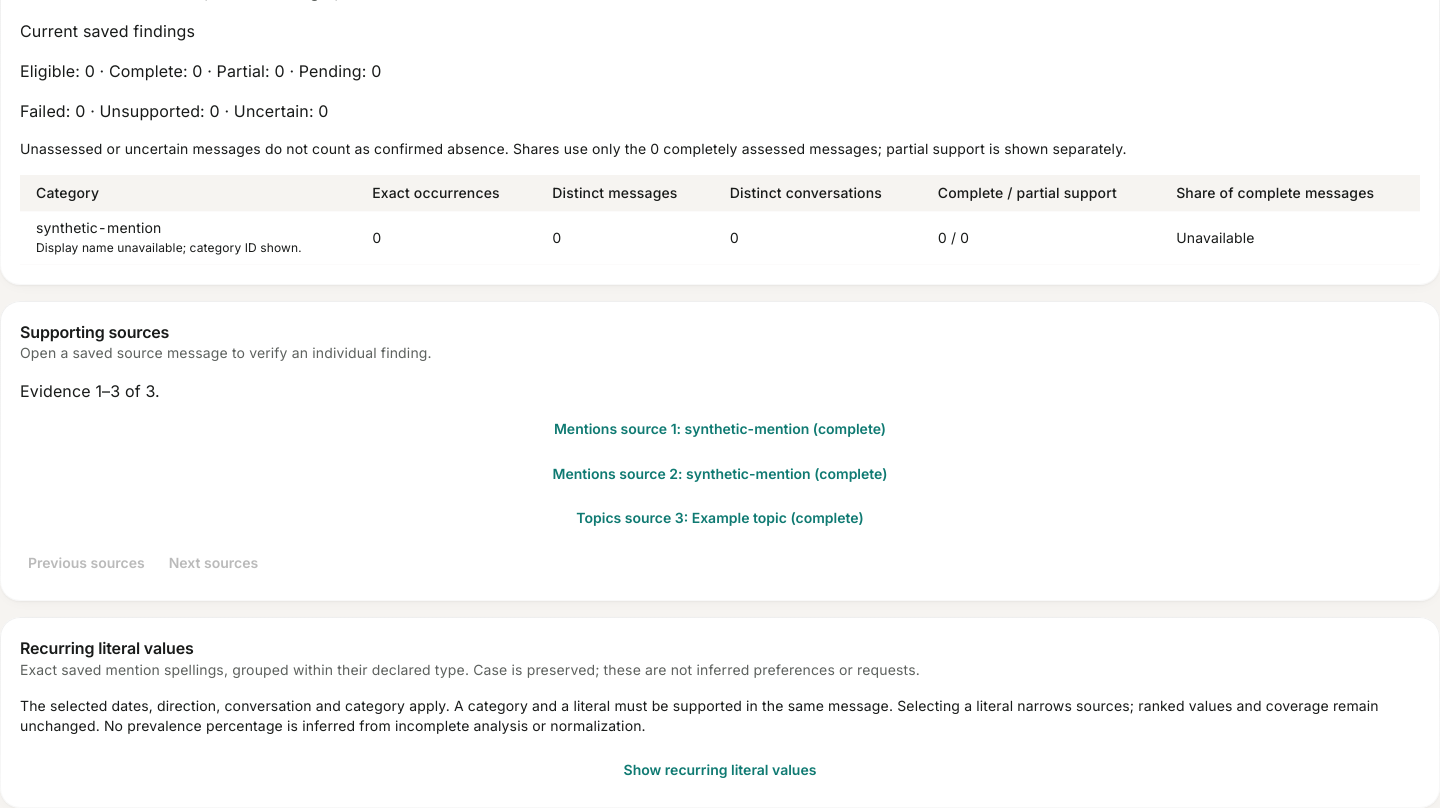
TaskFindings › opens only the selected repeated Unicode mention occurrence
(page scrolled)
Step 1. Click the button "Mentions source 2: synthetic-mention (complete)" → (720, 474), box [20,456,1420,492]
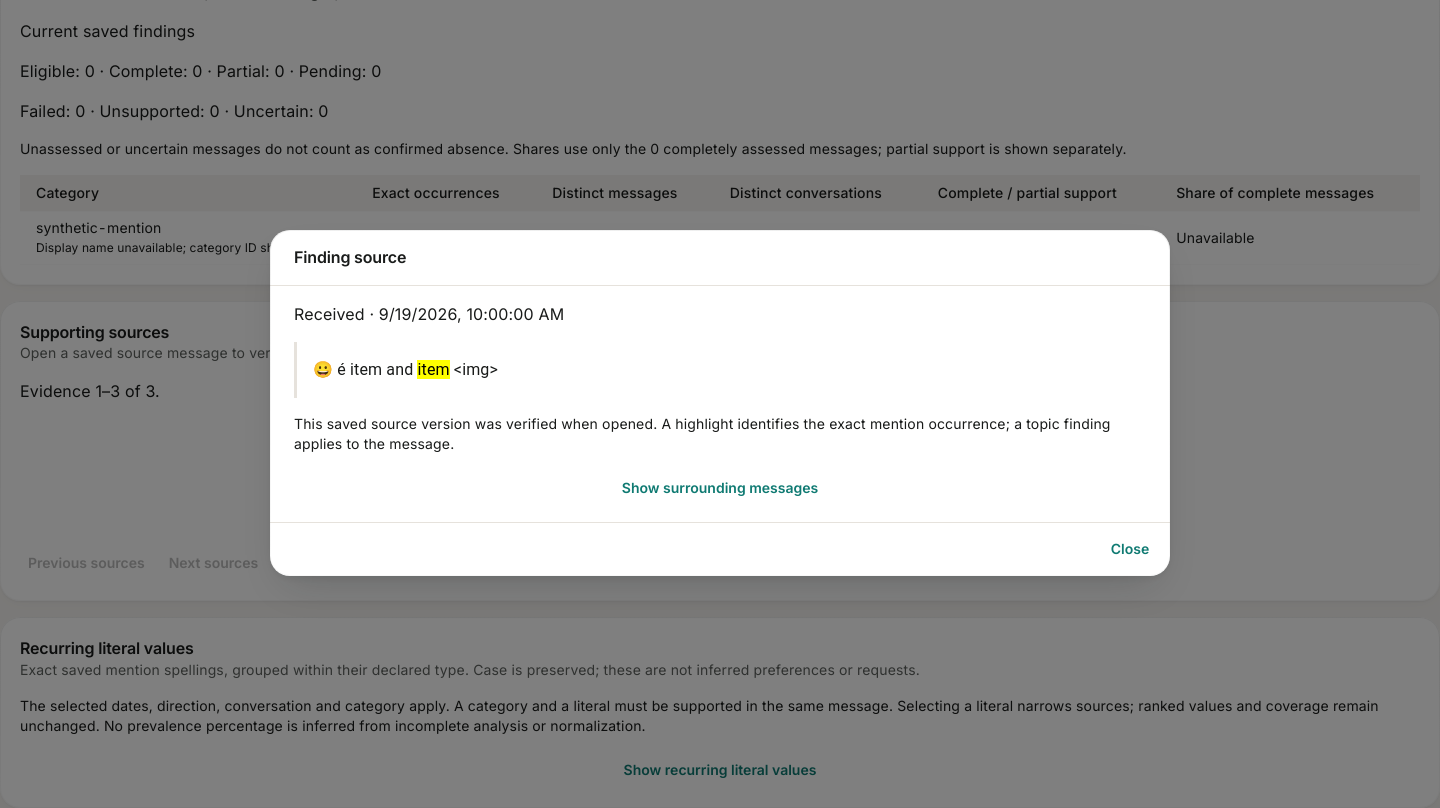
Expected: the text "item" is shown, [418,360,450,379]
